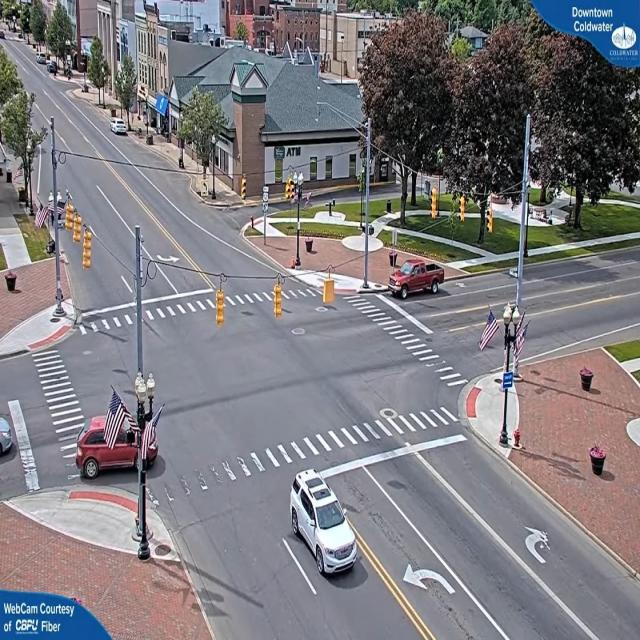car: (287, 474, 355, 579), (78, 400, 148, 481), (389, 258, 446, 300), (112, 121, 130, 138)
